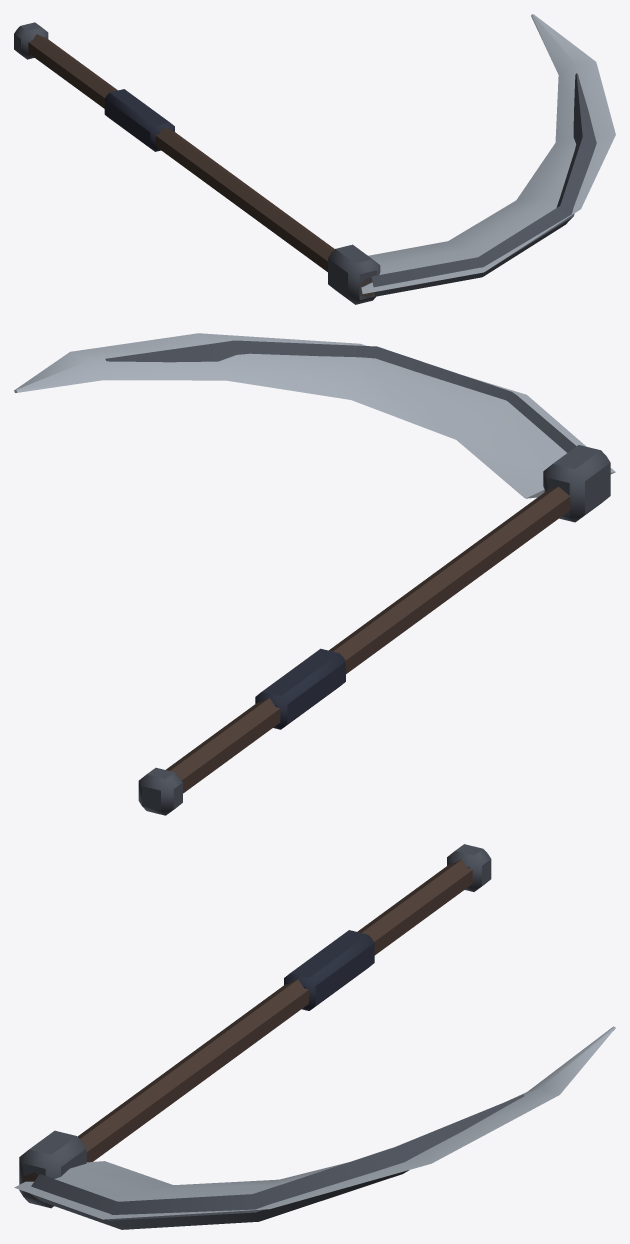
File: ceifador_weapon.fbx
3 renders of one model, top to bottom at view 1: azimuth 30°, elevation 25°; view 2: azimuth 150°, elevation 25°; view 3: azimuth 330°, elevation 25°, orthographic. The views are drawn at different scales.
Visible parts, largest first — view 1: ceifador_weapon; view 2: ceifador_weapon; view 3: ceifador_weapon.
Part boxes in pixels (x1,y1,x2,y2): ceifador_weapon: (14, 14, 615, 304); ceifador_weapon: (14, 333, 615, 815); ceifador_weapon: (14, 844, 615, 1229).
Bounding box in the file's own units: 1.35 × 0.4347 × 2.63.
